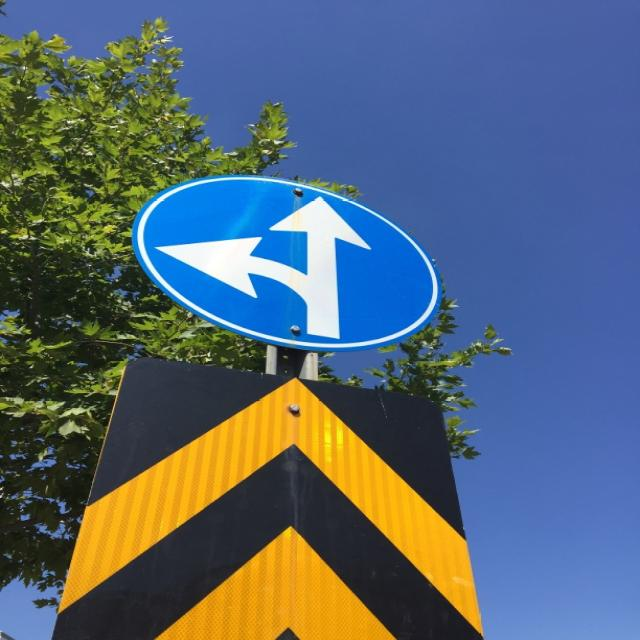ilerisol: (132, 175, 443, 352)
